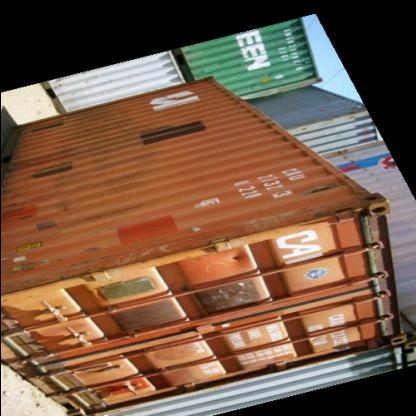Damage: (6, 195, 376, 292), (108, 115, 152, 190), (38, 205, 76, 243)
